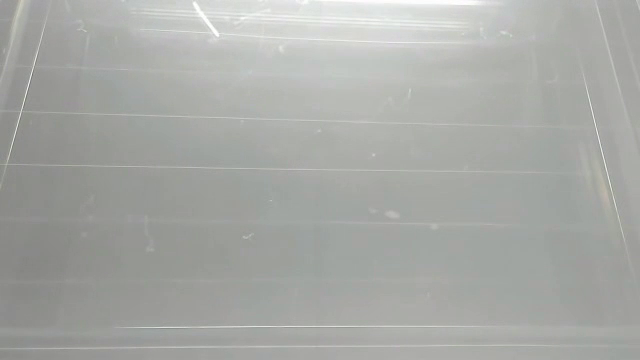alpha: (364, 205, 446, 235), (188, 1, 222, 39)
